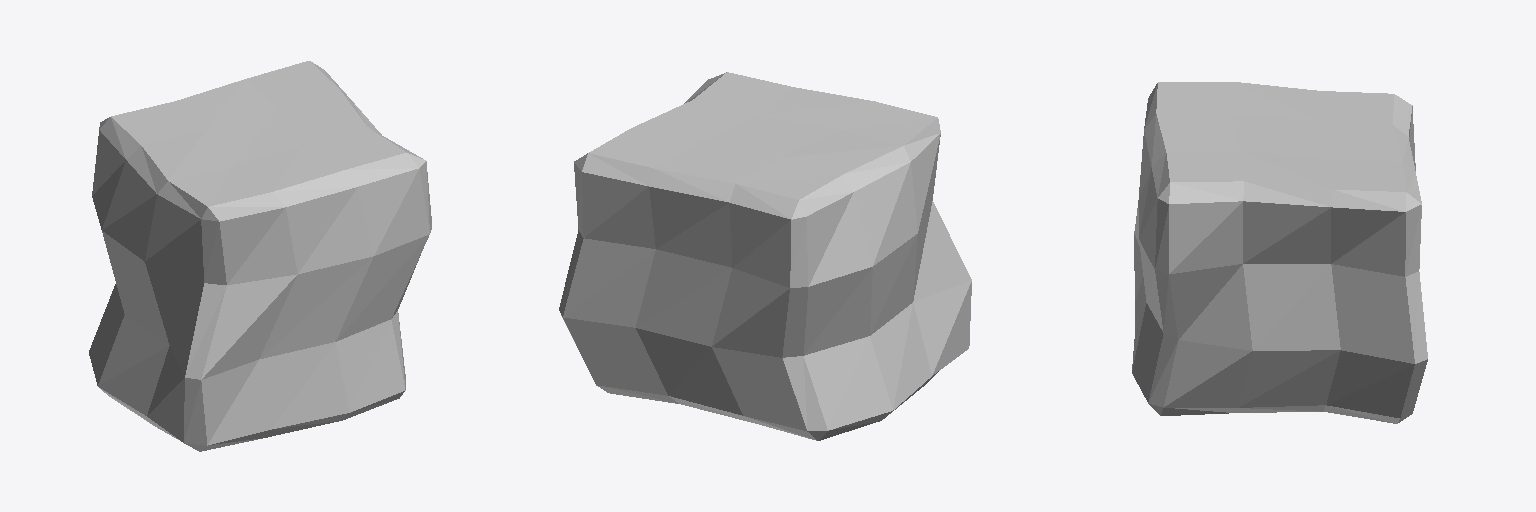
Rendered from Hielo 5.obj.
3 views of the same model, side by side, from view 1: azimuth 30°, elevation 25°; view 2: azimuth 150°, elevation 25°; view 3: azimuth 270°, elevation 25° (orthographic).
Visible parts, largest first — view 1: Object; view 2: Object; view 3: Object.
Boxes of the visible parts, box(x1,y1,x2,y2) form: Object: box(89, 61, 431, 451); Object: box(559, 72, 971, 440); Object: box(1132, 82, 1427, 423).
Size of the model in its own units: 48.73 by 39.66 by 44.11.